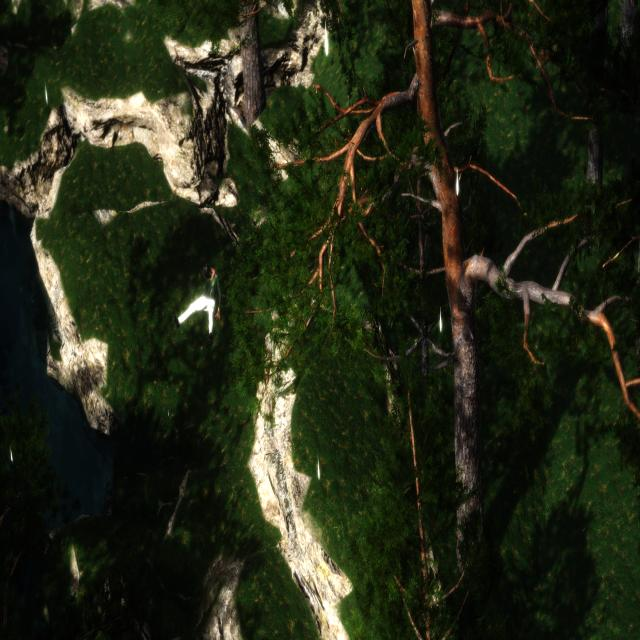Human: (171, 261, 224, 345)
